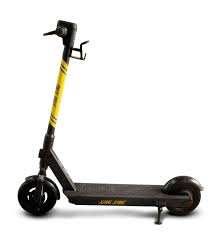kick_board: (17, 20, 201, 215)
kick_body: (72, 183, 163, 206)
kick_handler: (43, 21, 77, 46)
kick_neck: (40, 48, 70, 165)
kick_wheel: (16, 176, 56, 215), (165, 177, 200, 214)
